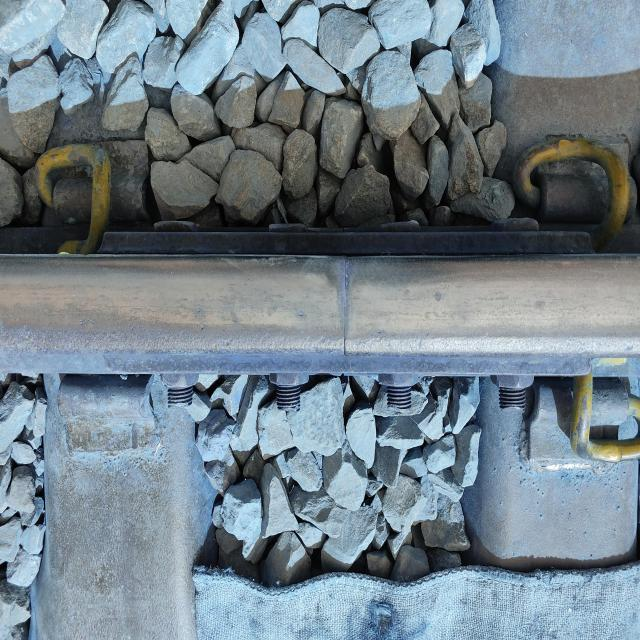Good Fasteners: (502, 126, 638, 249), (22, 144, 157, 262), (534, 356, 638, 494)
Good Joint: (89, 223, 622, 411)
Missing Fastener: (35, 378, 162, 464)
